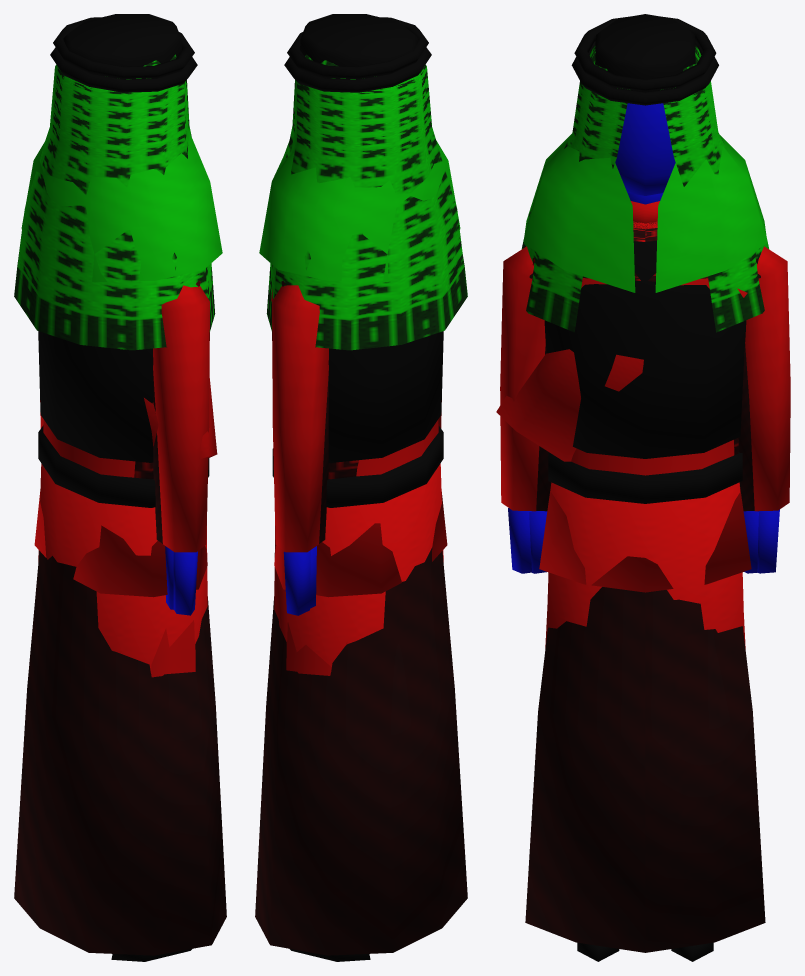
The model's file is haram-crowd-kit.glb.
The picture shows the model from 3 angles, left to right: view 1: azimuth 30°, elevation 25°; view 2: azimuth 150°, elevation 25°; view 3: azimuth 270°, elevation 25°; orthographic projection.
Visible parts, largest first — view 1: Archetype_5_LOD0, Archetype_0_LOD0, Archetype_1_LOD0, Archetype_3_LOD0, Archetype_2_LOD0; view 2: Archetype_5_LOD0, Archetype_0_LOD0, Archetype_1_LOD0, Archetype_3_LOD0, Archetype_2_LOD0; view 3: Archetype_5_LOD0, Archetype_0_LOD0, Archetype_1_LOD0, Archetype_3_LOD0, Archetype_2_LOD0.
Boxes of the visible parts, <box> form: Archetype_5_LOD0: <box>14,83,226,955</box>; Archetype_0_LOD0: <box>14,17,215,961</box>; Archetype_1_LOD0: <box>34,331,209,597</box>; Archetype_3_LOD0: <box>38,378,217,673</box>; Archetype_2_LOD0: <box>63,14,200,479</box>; Archetype_5_LOD0: <box>255,141,467,955</box>; Archetype_0_LOD0: <box>266,17,467,961</box>; Archetype_1_LOD0: <box>272,331,447,597</box>; Archetype_3_LOD0: <box>271,289,443,672</box>; Archetype_2_LOD0: <box>281,14,418,479</box>; Archetype_5_LOD0: <box>523,107,767,952</box>; Archetype_0_LOD0: <box>500,16,790,961</box>; Archetype_1_LOD0: <box>539,240,751,592</box>; Archetype_3_LOD0: <box>496,288,747,632</box>; Archetype_2_LOD0: <box>532,14,758,455</box>.
Size of what is drawn, in the model's own units: 0.3658 by 1.78 by 0.531.
Materials: 1 (1 with a texture image).
